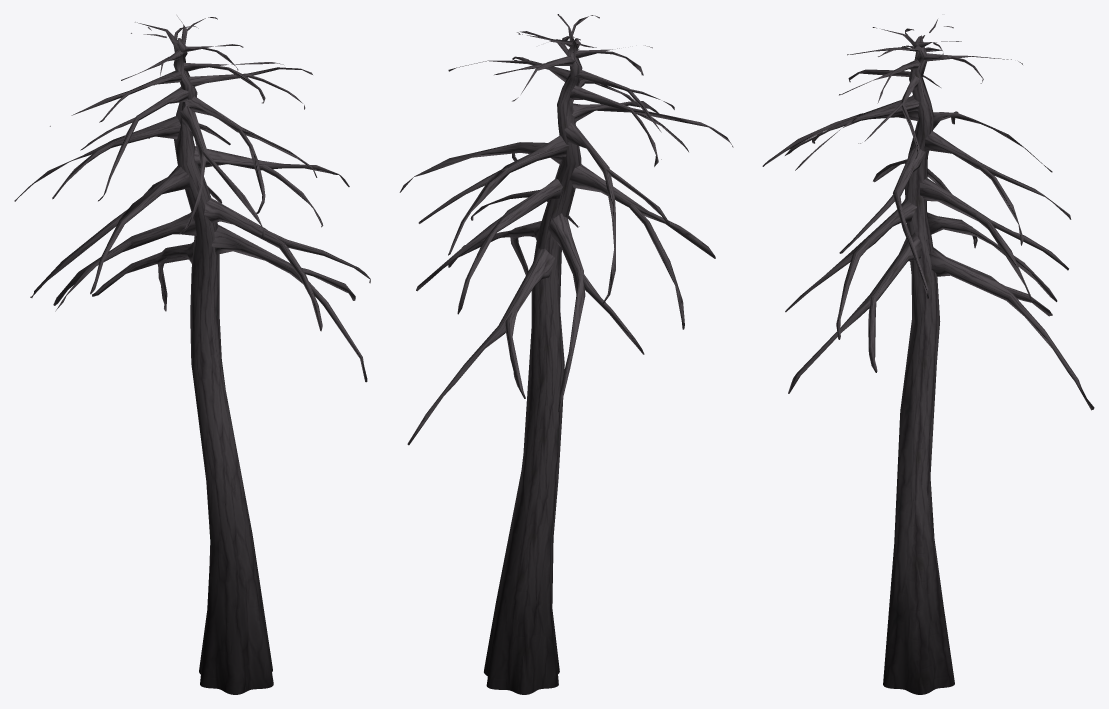
File: deadtree_3_1.glb
3 views of the same model, side by side, from view 1: azimuth 30°, elevation 25°; view 2: azimuth 150°, elevation 25°; view 3: azimuth 270°, elevation 25° (orthographic). The views are drawn at different scales.
Parts seen in each view (by area): view 1: DeadTree_3; view 2: DeadTree_3; view 3: DeadTree_3.
Boxes of the visible parts, x1,y1,x2,y2 form: DeadTree_3: (14,16,370,694); DeadTree_3: (399,14,733,694); DeadTree_3: (762,19,1094,694).
Size of the model in its own units: 6.38 by 13.28 by 6.43.
1 material, 1 textured.
